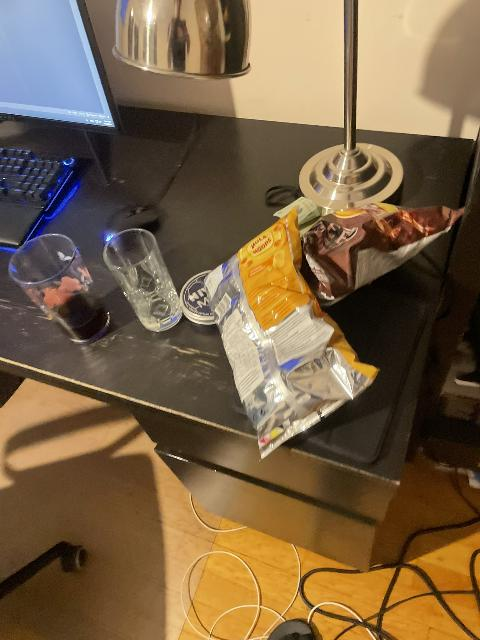Chio Hula Hoops Cheese 70g: (196, 209, 376, 454)
Lays Beef Grilled Ribs 125g: (304, 202, 466, 305)
